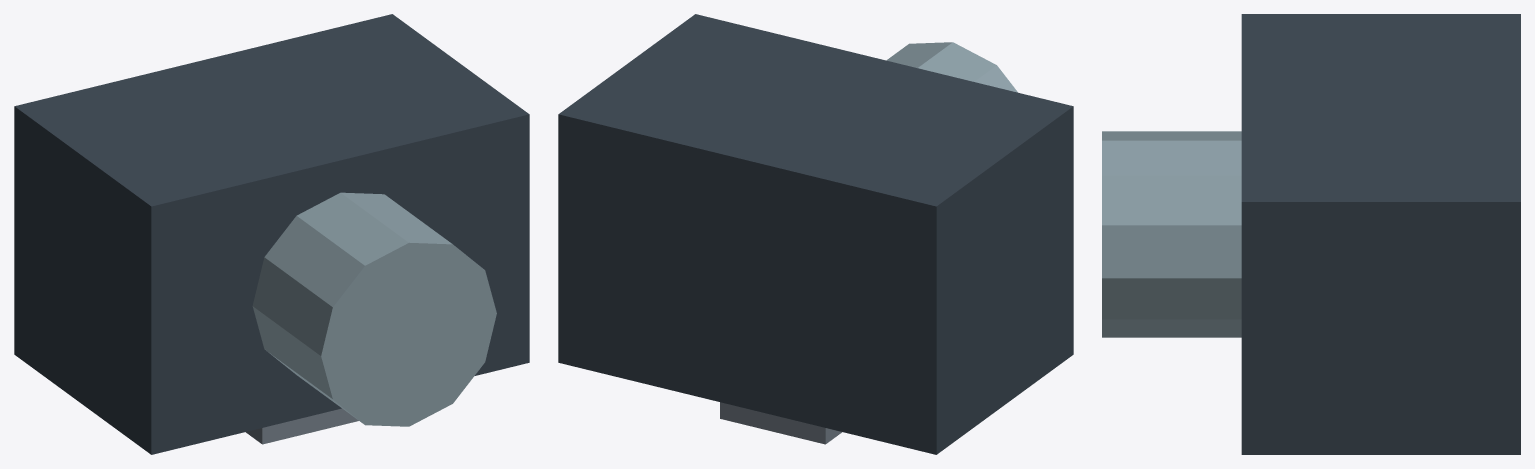
File: tecnologia_camera.glb
The picture shows the model from 3 angles, left to right: view 1: azimuth 30°, elevation 25°; view 2: azimuth 150°, elevation 25°; view 3: azimuth 270°, elevation 25°; orthographic projection.
Size of the model in its own units: 0.43 by 0.315 by 0.405.
